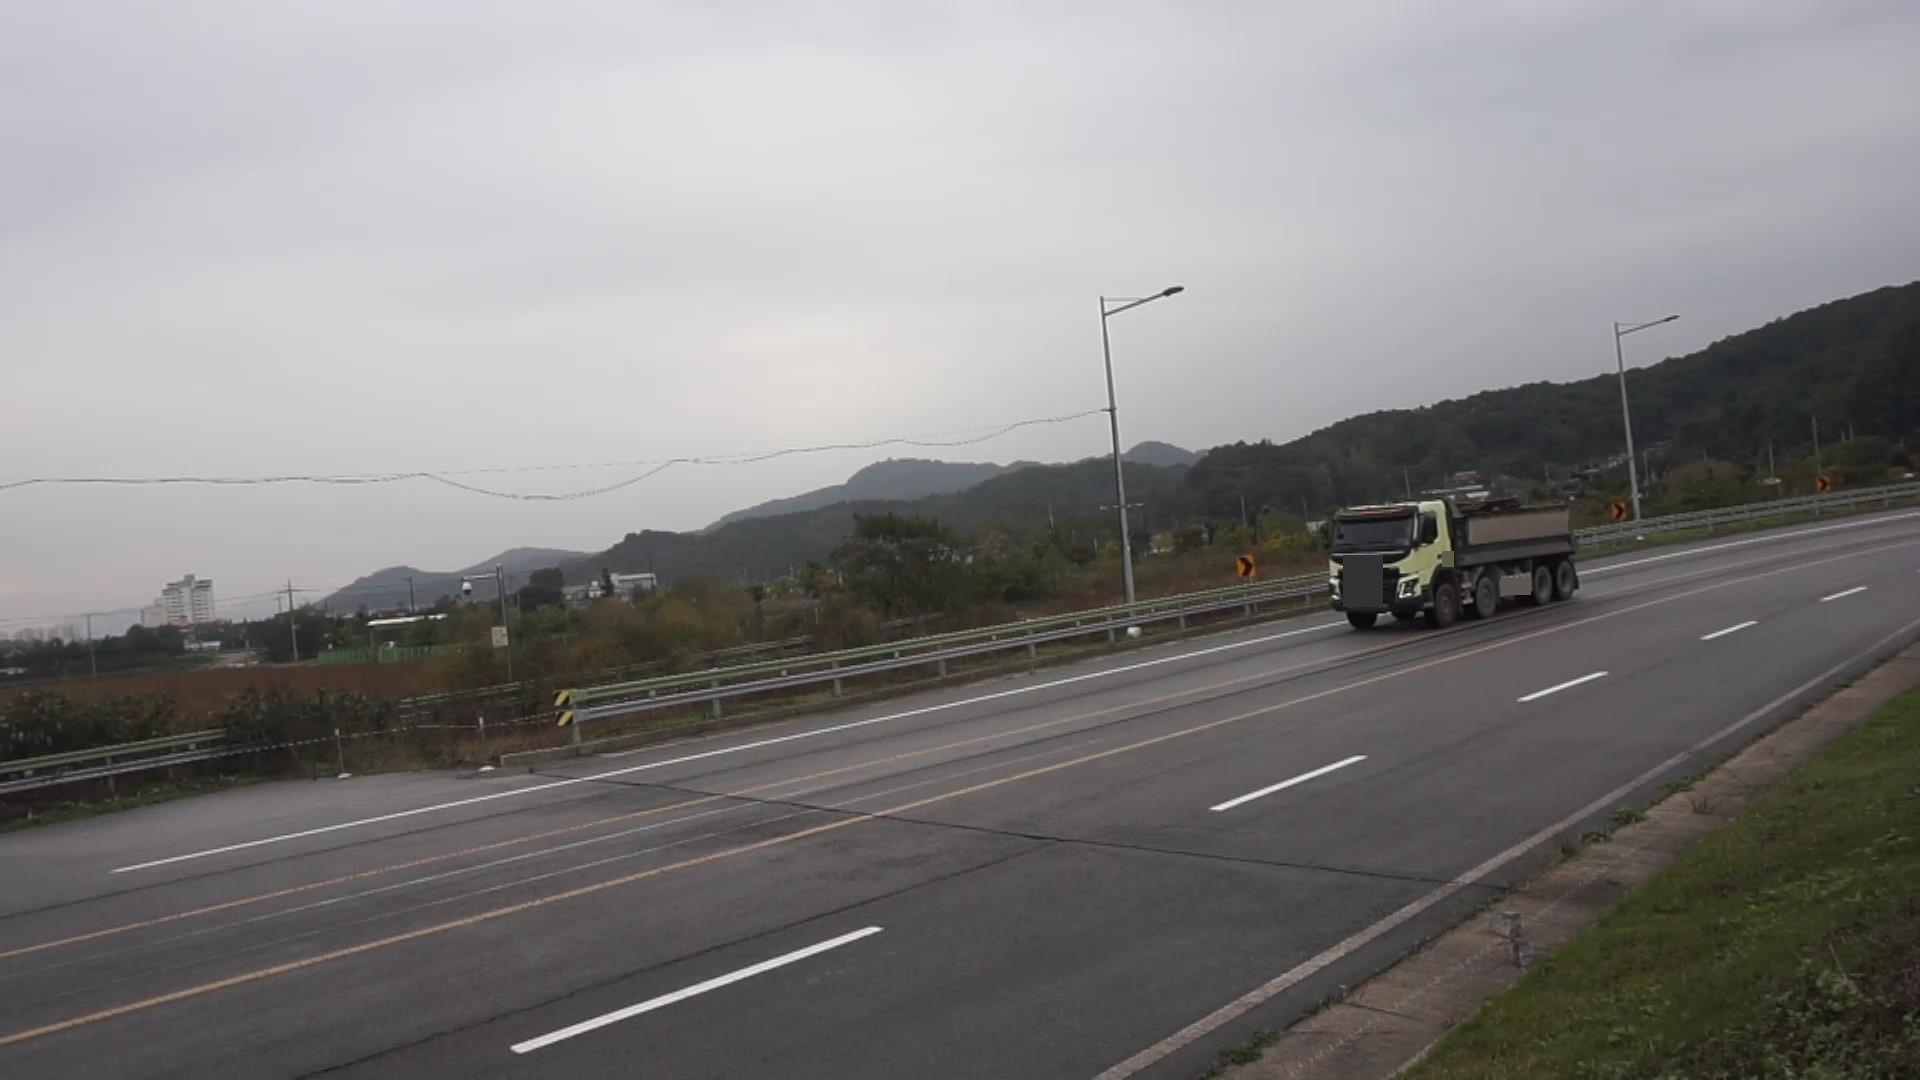정상차량: (1318, 494, 1582, 630)
